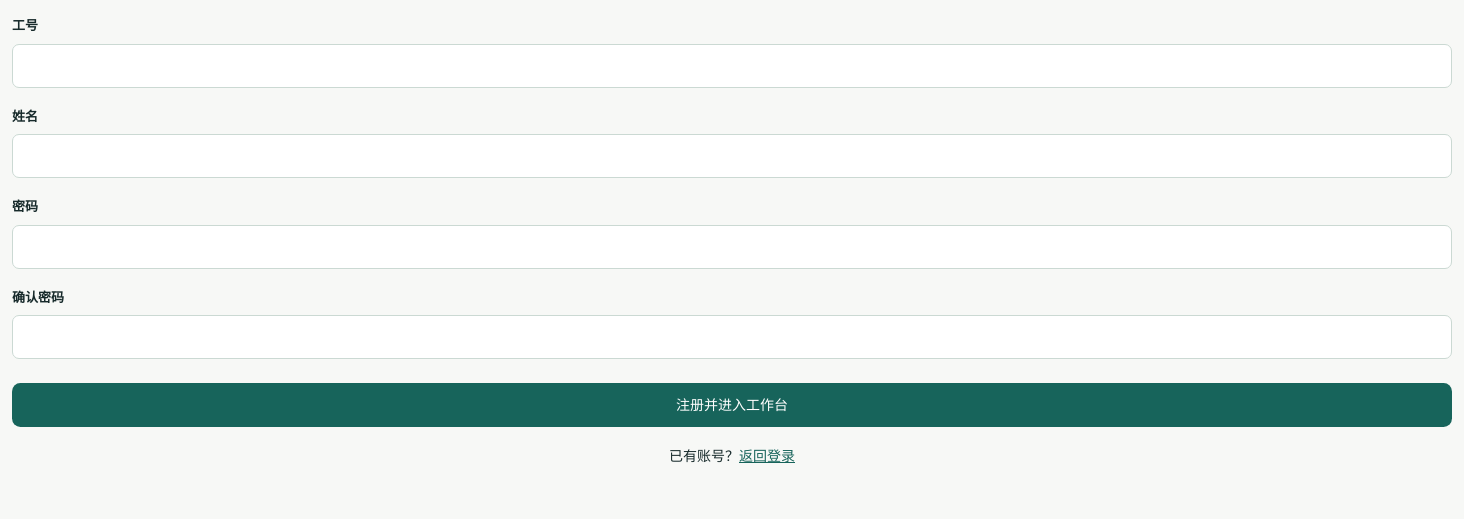
Test: register form › explains that the account exists when automatic login fails
The width and height of the screenshot is (1464, 519).
Type "001234" into the field labelled "工号".
click(732, 66); type("001234")  # box [12,44,1452,88]
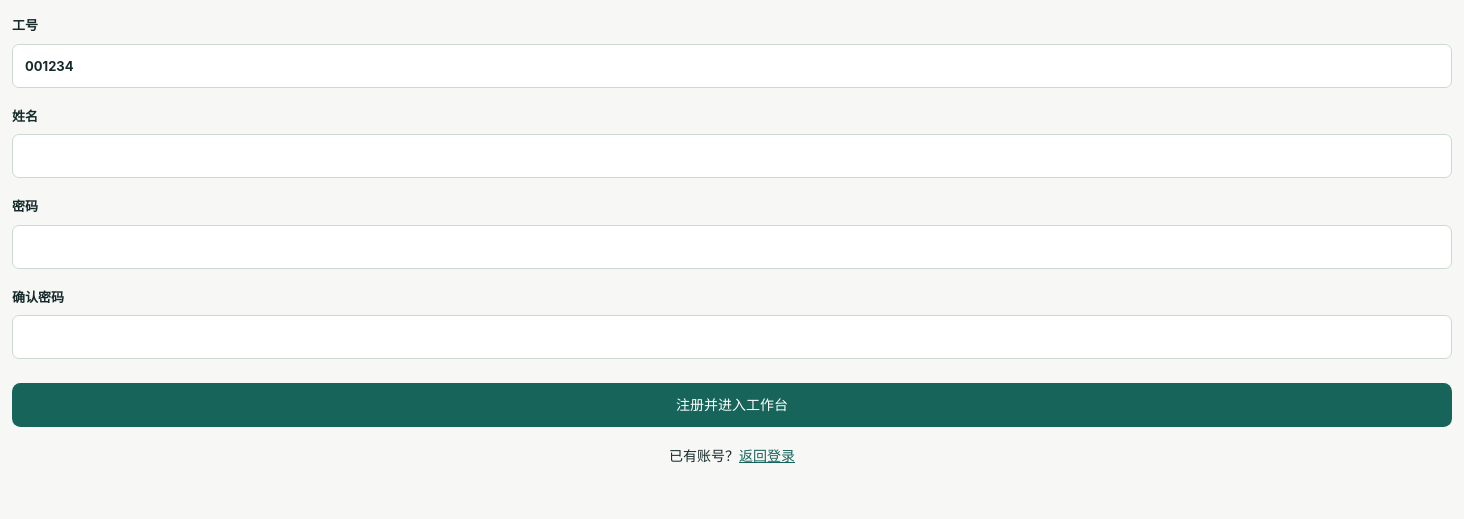
Type "张三" into the field labelled "姓名".
click(732, 156); type("张三")  # box [12,134,1452,178]
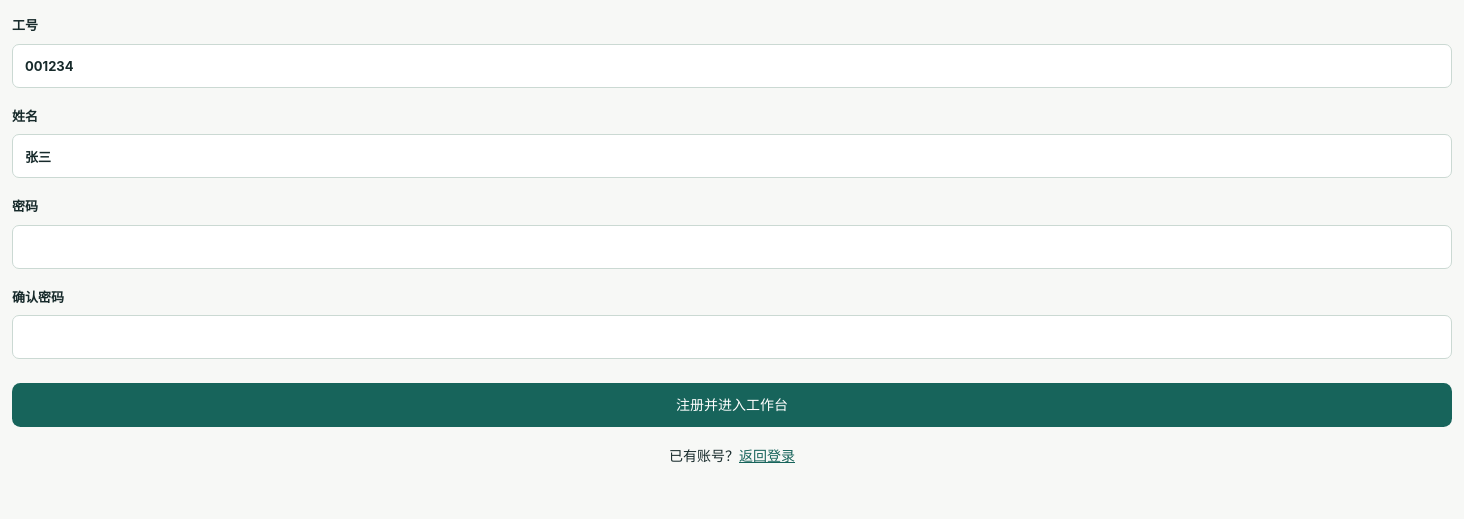
Type "pass123" into the password field labelled "密码".
click(732, 246); type("pass123")  # box [12,224,1452,268]
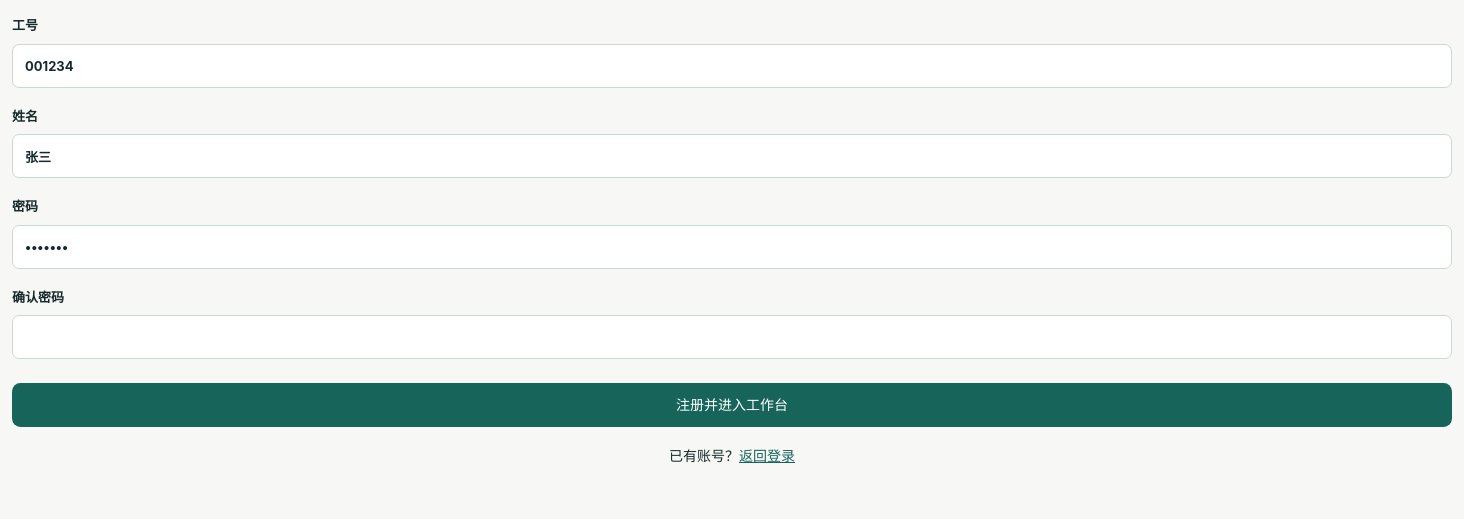
Type "pass123" into the password field labelled "确认密码".
click(732, 337); type("pass123")  # box [12,315,1452,359]
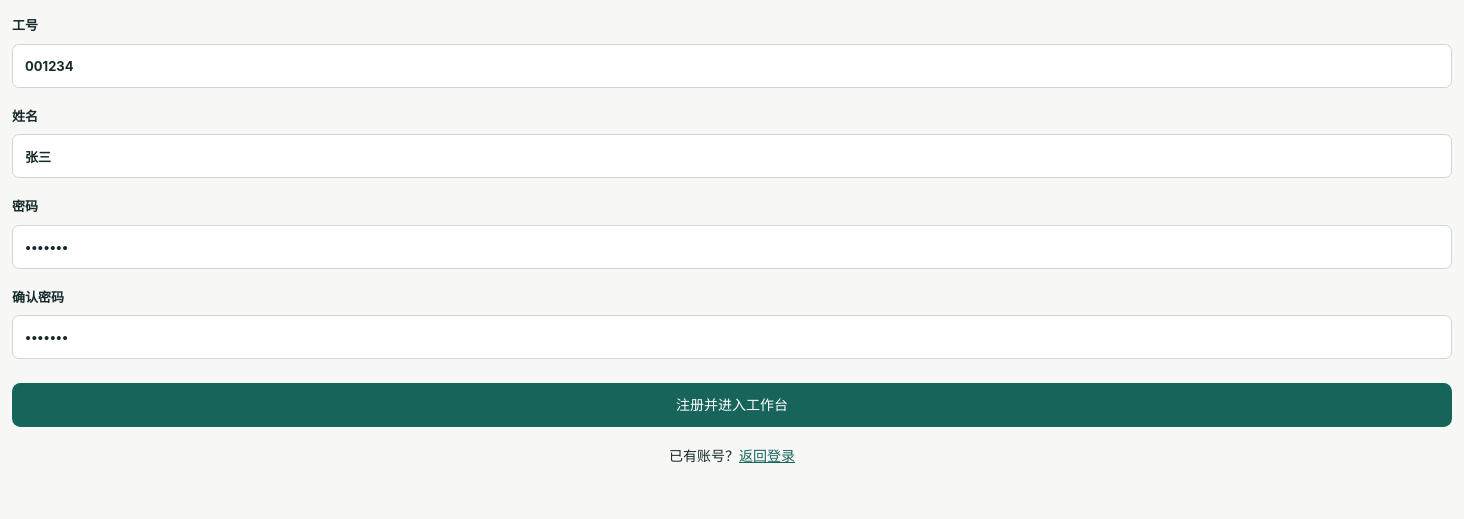
Submit the form "注册并进入工作台"
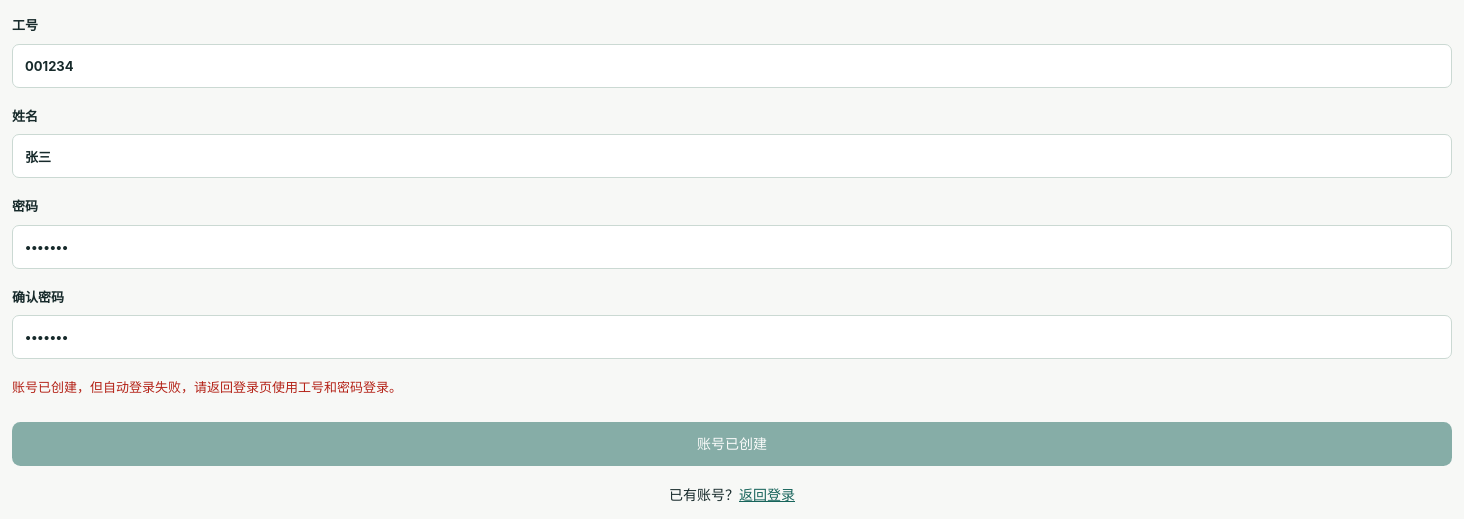
Now the message shows "账号已创建，但自动登录失败", box [12,379,402,395]
Now the button "账号已创建" is disabled, box [12,422,1452,466]
